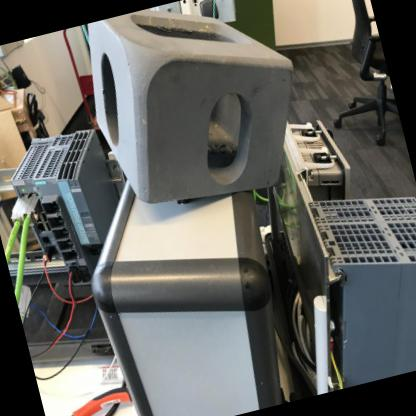CornerCasting: (70, 0, 328, 235)
